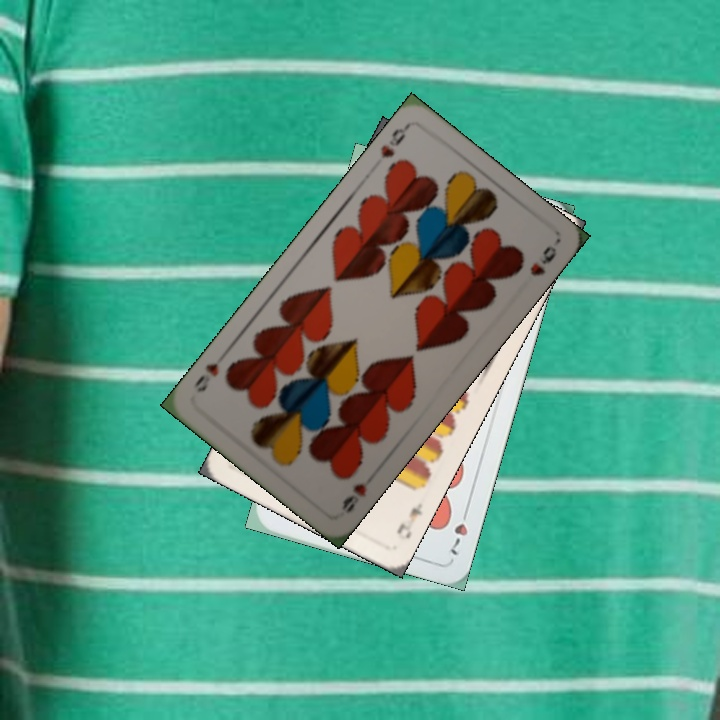E9: (392, 498, 426, 542)
H7: (446, 502, 472, 558)
H9: (376, 121, 411, 161), (337, 479, 369, 516)
